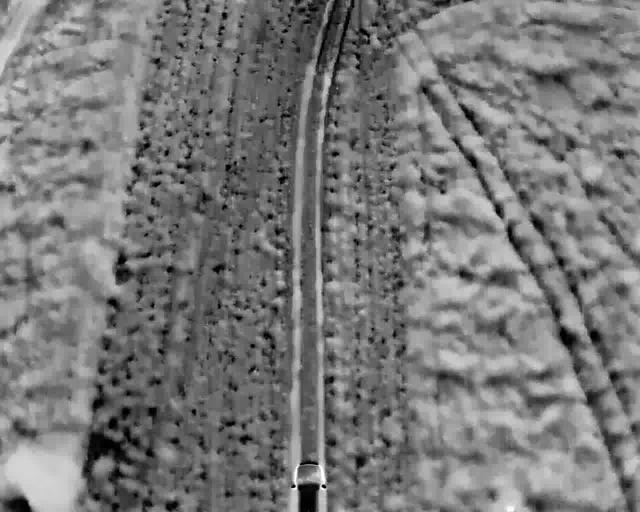car: (290, 463, 327, 512)
